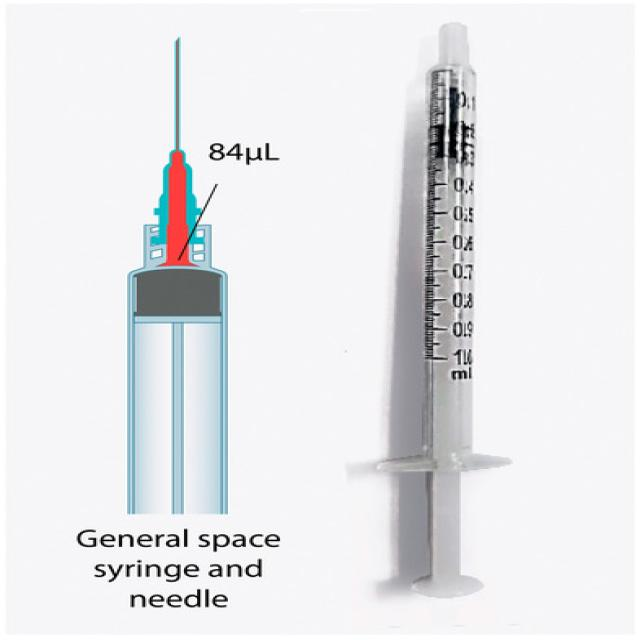syringe: (375, 20, 513, 597), (123, 35, 230, 514)
